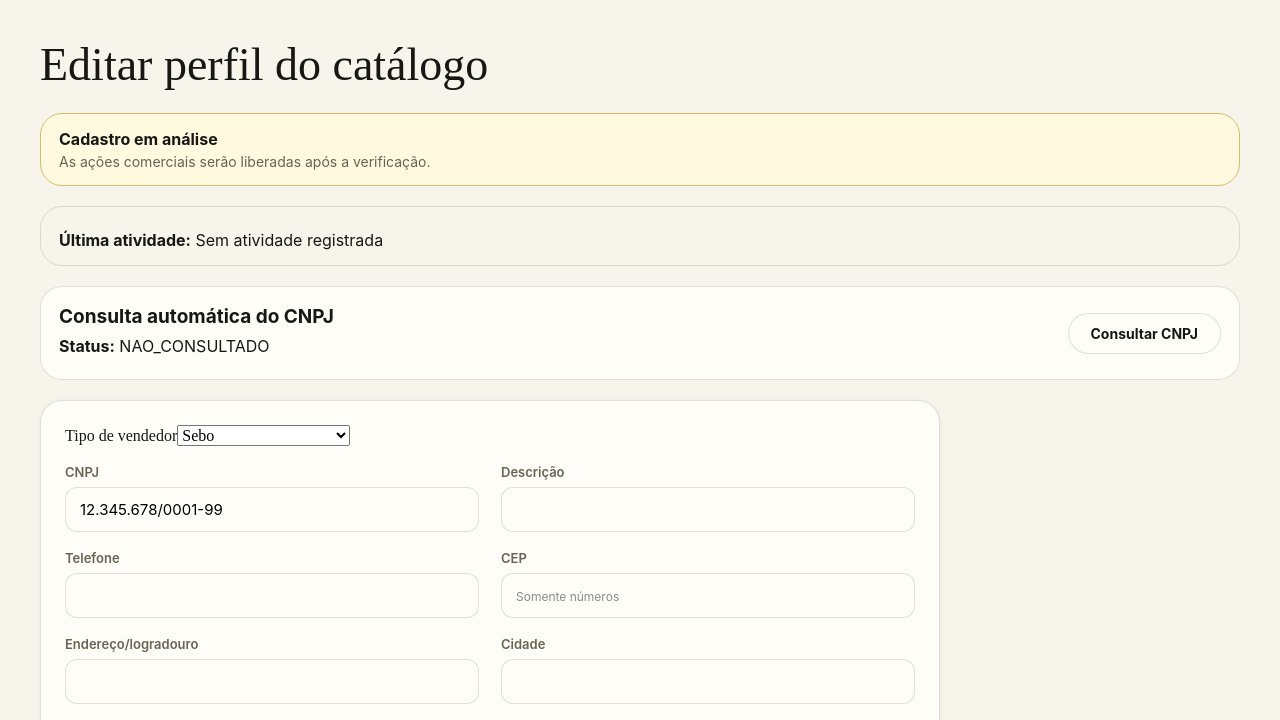
Test case: novos contratos do backend › consulta o CNPJ e exibe razão social e status retornados pelo backend
Step 1. Click the button "Consultar CNPJ" → (1144, 333), box x1=1068 y1=312 x2=1221 y2=354
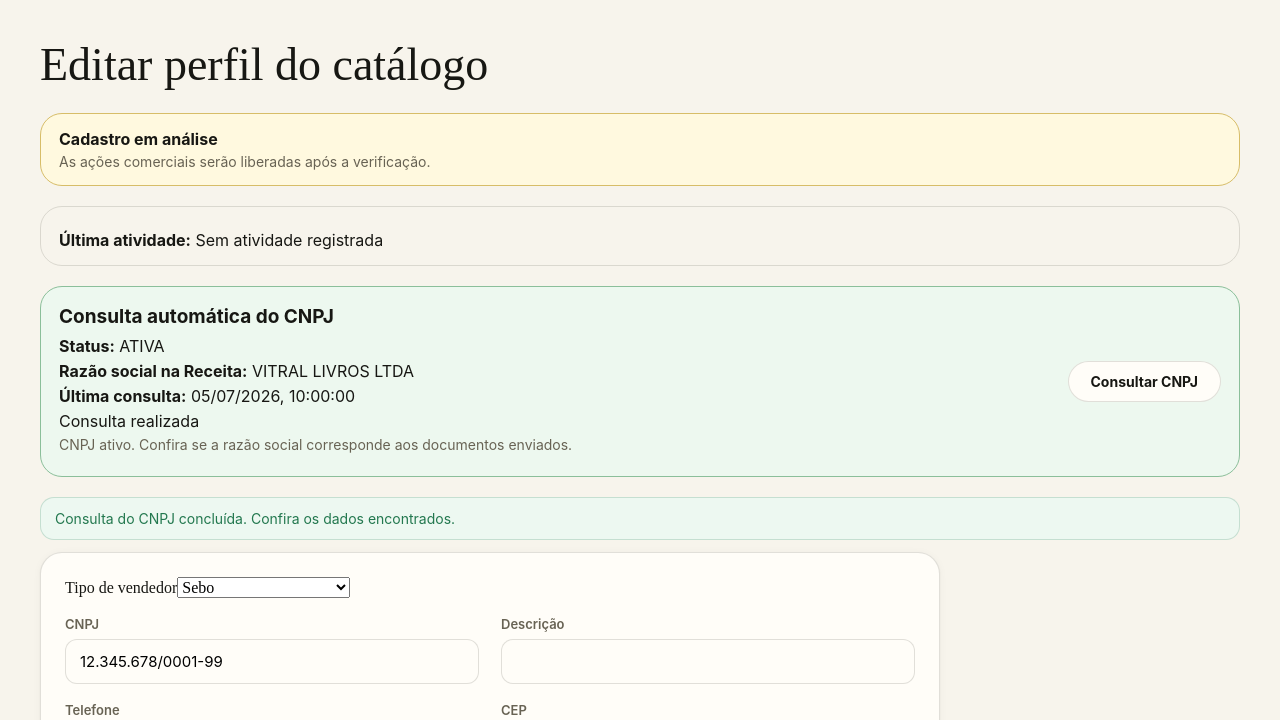
Expected: the text "VITRAL LIVROS LTDA" is shown, x1=252 y1=361 x2=414 y2=381
Expected: the text "CNPJ ativo" is shown, x1=59 y1=436 x2=572 y2=453
